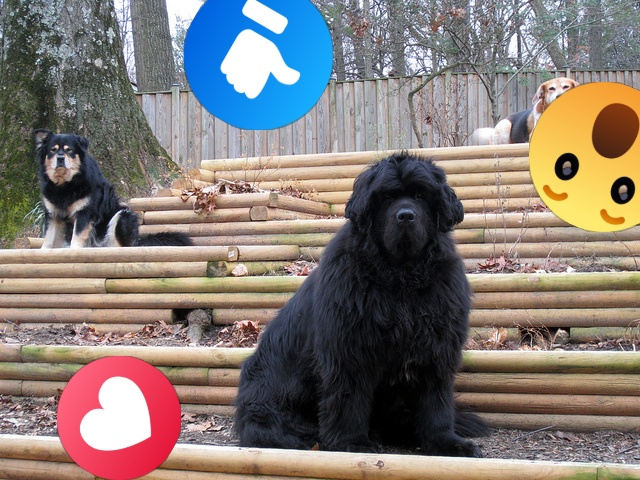like: (184, 0, 333, 130)
love: (57, 356, 181, 480)
wow: (529, 82, 640, 232)
